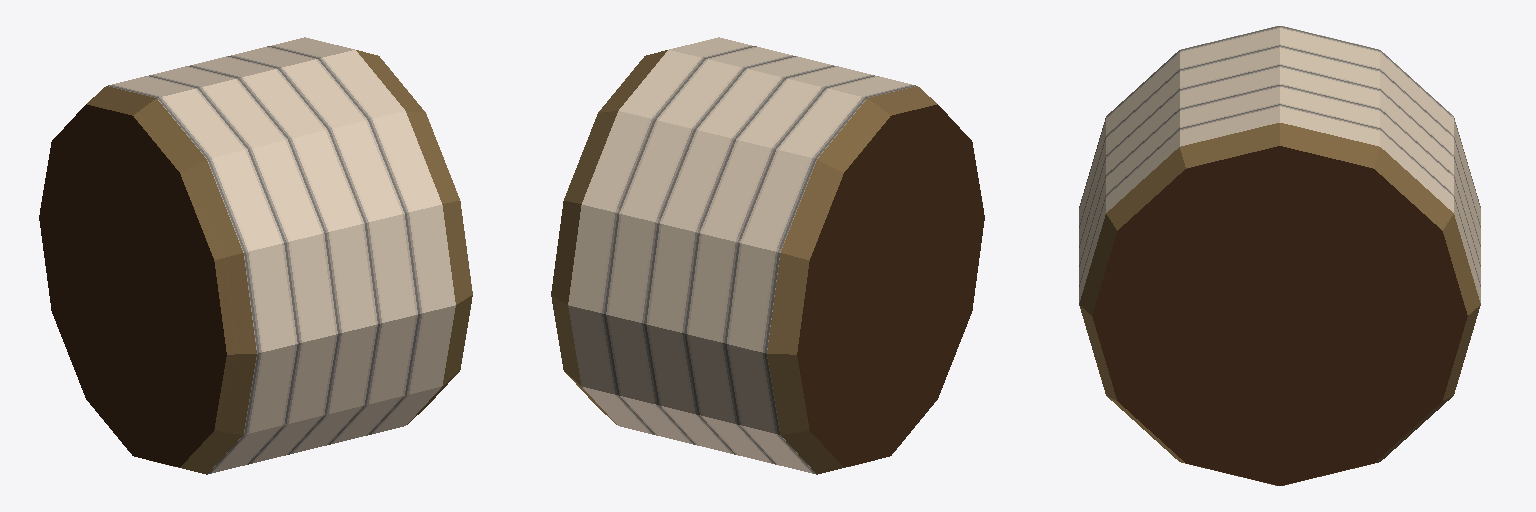
The picture shows the model from 3 angles: view 1: azimuth 30°, elevation 25°; view 2: azimuth 150°, elevation 25°; view 3: azimuth 270°, elevation 25°; orthographic projection.
Parts seen in each view (by area): view 1: Reel; view 2: Reel; view 3: Reel.
Part boxes in pixels (x1,y1,x2,y2): Reel: (39, 37, 472, 474); Reel: (551, 37, 984, 474); Reel: (1079, 26, 1480, 485).
Size of the model in its own units: 0.099 by 0.14 by 0.14.
Materials: 1 (1 with a texture image).